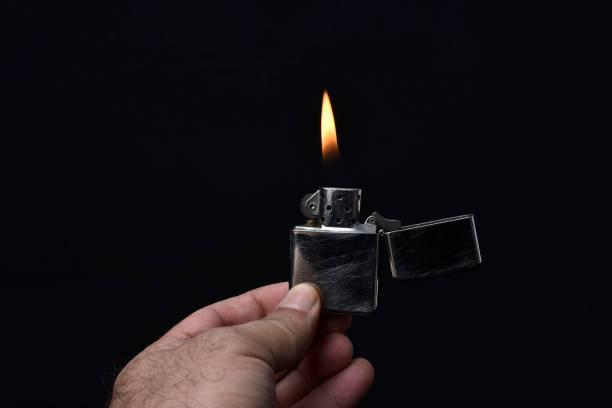Fire: (317, 88, 346, 185)
